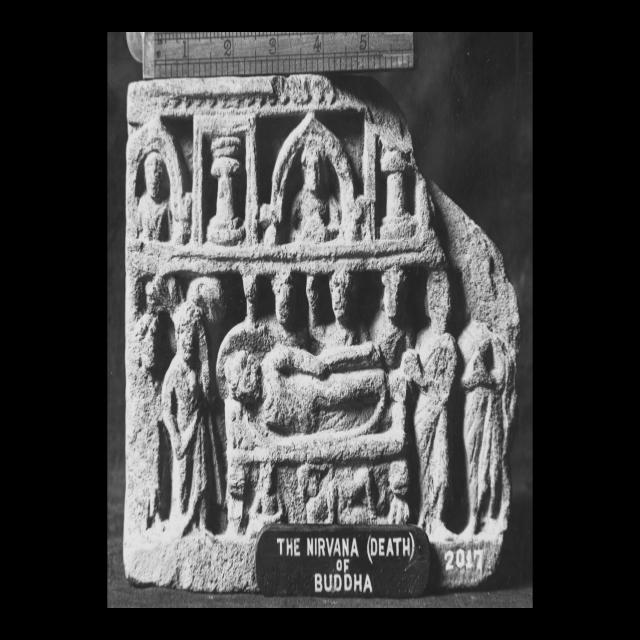buddha-sleeping: (219, 320, 418, 533)
